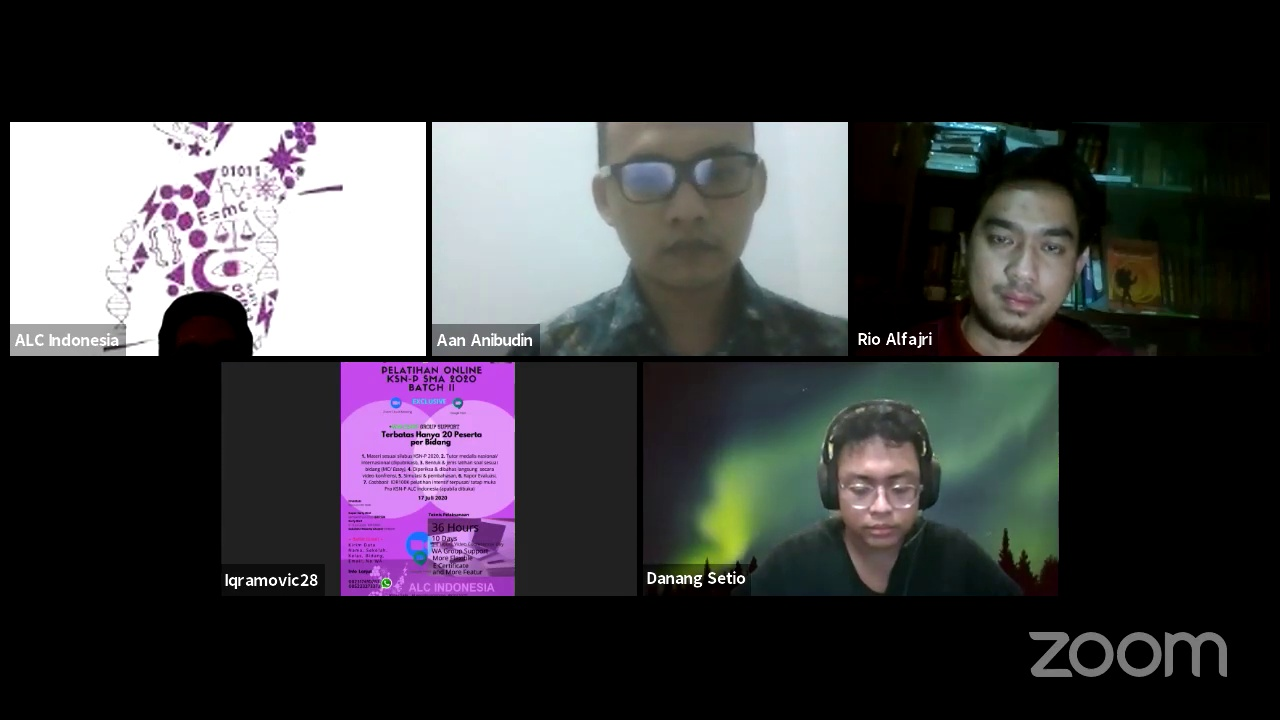Distracted: (822, 426, 954, 560)
Not Distracted: (953, 167, 1117, 341), (580, 141, 772, 288)
